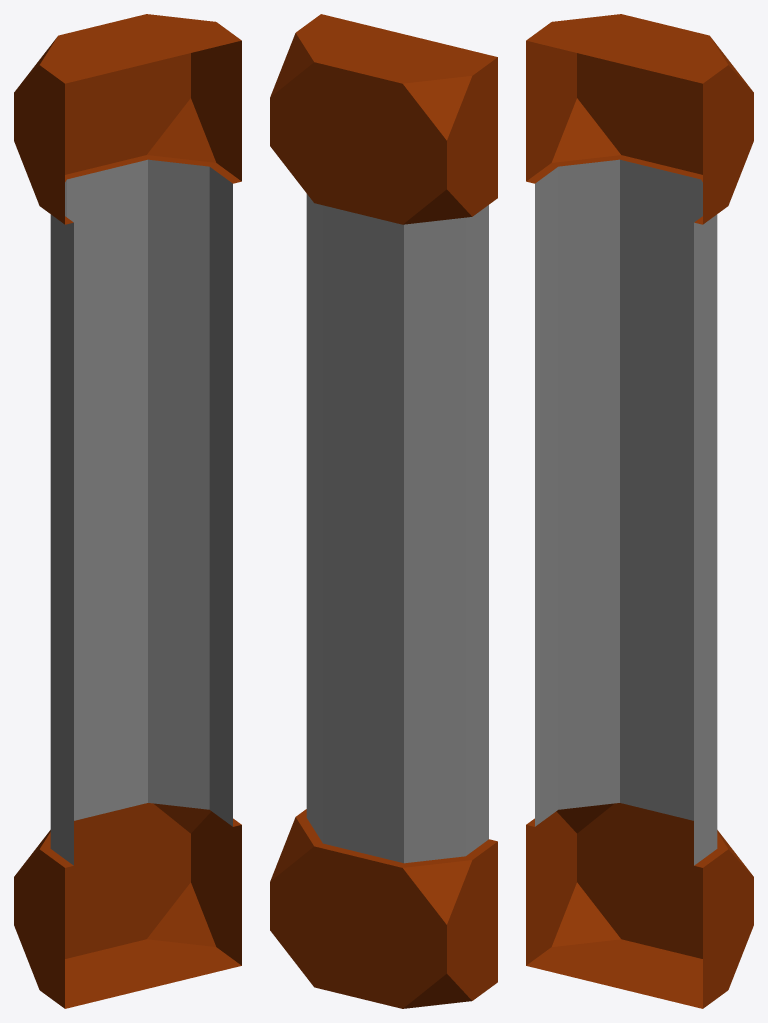
File: SM_StamperLevelGuage.FBX
3 renders of one model, left to right at view 1: azimuth 30°, elevation 25°; view 2: azimuth 150°, elevation 25°; view 3: azimuth 330°, elevation 25°, orthographic.
Parts seen in each view (by area): view 1: StamperLevelGuage; view 2: StamperLevelGuage; view 3: StamperLevelGuage.
Part boxes in pixels (bbox=[...]): StamperLevelGuage: bbox=[14, 14, 241, 1008]; StamperLevelGuage: bbox=[270, 14, 497, 1008]; StamperLevelGuage: bbox=[526, 14, 753, 1008].
Size of the model in its own units: 10 by 50 by 5.
